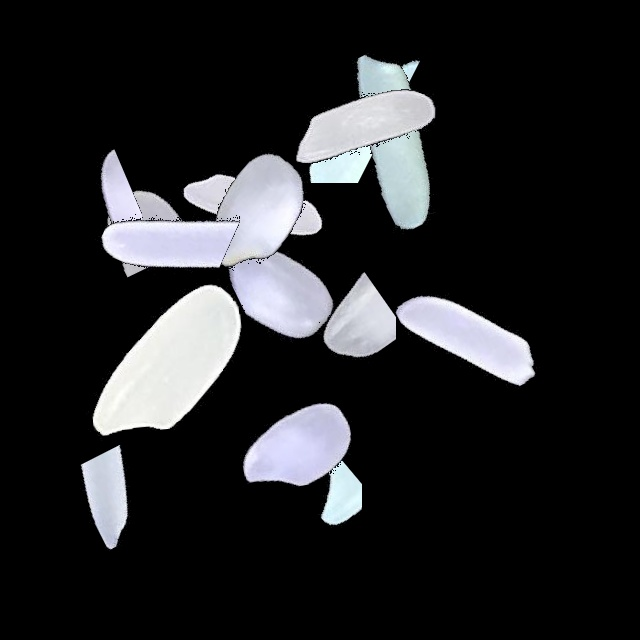Broken: (189, 184, 439, 349), (206, 280, 369, 530), (31, 144, 281, 296), (57, 73, 199, 323), (191, 48, 441, 183), (272, 211, 396, 461), (22, 101, 142, 351), (75, 375, 182, 625), (283, 373, 362, 623)
Full: (270, 12, 520, 262), (39, 235, 289, 485), (342, 217, 592, 467), (127, 81, 377, 331), (129, 89, 379, 339), (239, 0, 489, 250)
